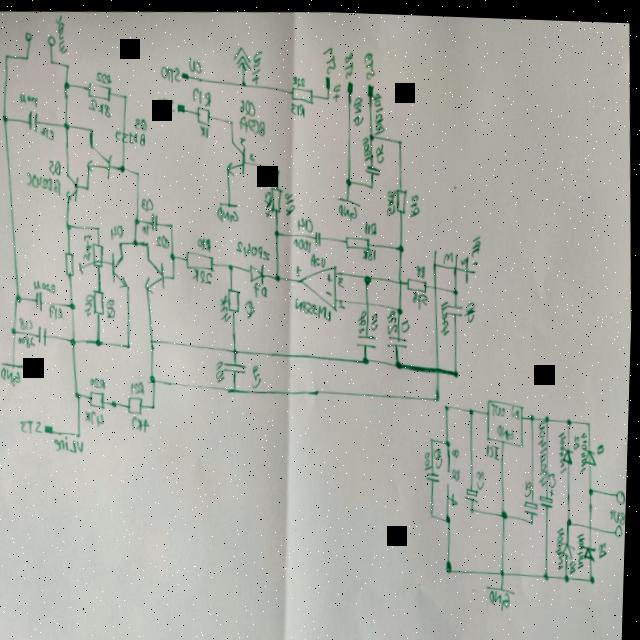capacitor: (542, 480, 559, 505), (388, 331, 411, 349), (227, 357, 251, 374), (358, 328, 380, 345), (466, 479, 483, 501), (38, 323, 52, 348), (27, 109, 41, 132), (526, 494, 542, 512), (365, 160, 383, 174), (151, 211, 162, 231), (35, 291, 45, 312), (428, 466, 442, 481), (451, 298, 465, 312), (315, 227, 324, 245)
crossover: (436, 359, 443, 372), (365, 295, 372, 303), (399, 274, 405, 282), (590, 519, 596, 525), (434, 280, 440, 286)
diode: (250, 258, 268, 283), (585, 441, 601, 462), (585, 536, 600, 558), (564, 534, 579, 555), (565, 442, 578, 460)
ground: (337, 192, 363, 206), (490, 579, 520, 591), (2, 358, 28, 370), (220, 198, 240, 207)
junction: (364, 270, 374, 283), (63, 78, 72, 89), (449, 557, 457, 569), (503, 504, 512, 514), (345, 173, 354, 183), (398, 239, 407, 249), (72, 335, 80, 345), (152, 372, 160, 382), (397, 355, 405, 365), (97, 336, 105, 346), (276, 269, 284, 279), (70, 299, 78, 309), (569, 512, 577, 522), (229, 260, 237, 270), (591, 480, 599, 490), (12, 325, 20, 335), (16, 293, 24, 303), (112, 398, 120, 408), (64, 119, 71, 130), (172, 249, 179, 259), (2, 112, 9, 122), (546, 566, 553, 576), (592, 569, 599, 579), (397, 303, 405, 311), (127, 340, 134, 349), (532, 407, 538, 417), (121, 162, 127, 172), (241, 77, 247, 87), (135, 214, 141, 224), (369, 129, 375, 139), (275, 226, 282, 234), (77, 389, 84, 397), (446, 399, 453, 407), (472, 502, 479, 510), (234, 345, 241, 353), (151, 336, 158, 344), (145, 238, 152, 246), (449, 510, 455, 519), (503, 563, 509, 572), (365, 352, 371, 360), (67, 220, 73, 228), (456, 365, 462, 373), (569, 413, 575, 421), (4, 51, 10, 59), (471, 402, 477, 410), (455, 283, 461, 291), (137, 168, 143, 176), (173, 272, 179, 280), (134, 237, 140, 245), (25, 52, 31, 60), (448, 435, 454, 443), (437, 390, 443, 398), (90, 125, 96, 133), (567, 569, 573, 577), (66, 60, 71, 69), (433, 506, 438, 515), (398, 135, 405, 141), (97, 223, 103, 230), (589, 414, 595, 421), (78, 430, 85, 436), (171, 219, 176, 227), (230, 115, 235, 123), (235, 384, 240, 392), (86, 183, 92, 189), (532, 513, 538, 519), (119, 239, 125, 245), (124, 92, 129, 98), (277, 165, 282, 171), (153, 402, 158, 408), (371, 180, 376, 186), (50, 57, 54, 63), (433, 432, 437, 438), (327, 93, 331, 99)
resistor: (79, 239, 106, 273), (85, 78, 115, 101), (186, 247, 215, 269), (395, 180, 410, 214), (291, 82, 315, 103), (345, 232, 373, 249), (89, 387, 109, 409), (94, 287, 108, 315), (197, 103, 213, 126), (272, 183, 285, 210), (229, 285, 243, 310), (128, 395, 146, 413), (409, 273, 429, 289), (66, 250, 78, 276)
source: (234, 42, 253, 71)
switch: (433, 242, 479, 280)
terminal: (618, 482, 629, 499), (46, 32, 57, 47), (367, 79, 376, 95), (25, 28, 35, 42), (617, 518, 626, 533), (177, 101, 187, 111), (181, 68, 190, 79), (347, 77, 354, 91), (47, 423, 56, 433), (326, 73, 332, 87), (449, 463, 453, 469), (449, 478, 453, 484)
text: (538, 412, 554, 486), (296, 292, 334, 320), (26, 169, 64, 195), (54, 432, 88, 457), (115, 125, 149, 149), (238, 236, 273, 258), (373, 85, 389, 133), (54, 12, 70, 54), (240, 111, 269, 133), (558, 425, 572, 469), (558, 521, 571, 568), (580, 424, 593, 470), (322, 40, 339, 73), (252, 45, 266, 85), (1, 364, 25, 387), (351, 91, 366, 127), (88, 96, 112, 118), (362, 46, 378, 79), (491, 584, 515, 606), (441, 295, 454, 332), (193, 84, 213, 106), (18, 89, 41, 108), (251, 360, 267, 387), (22, 417, 47, 434), (609, 500, 629, 521), (87, 406, 108, 426), (579, 527, 591, 562), (360, 131, 374, 161), (217, 203, 241, 220), (342, 47, 356, 76), (413, 288, 433, 308), (160, 63, 182, 81), (193, 265, 216, 282), (82, 232, 94, 264), (340, 200, 360, 219), (158, 93, 177, 113), (239, 95, 258, 115), (464, 294, 478, 320), (476, 462, 490, 488), (134, 413, 154, 431), (264, 187, 276, 216), (216, 356, 229, 382), (388, 305, 401, 331), (221, 291, 233, 319), (386, 185, 398, 213), (472, 227, 484, 254), (91, 372, 110, 389), (19, 331, 38, 348), (50, 302, 67, 320), (297, 212, 315, 229), (40, 125, 57, 143), (375, 137, 388, 160), (19, 314, 36, 331), (363, 216, 380, 233), (84, 292, 96, 316), (361, 245, 379, 261), (410, 190, 422, 214), (285, 188, 297, 212), (291, 98, 307, 116), (140, 195, 158, 211), (188, 54, 204, 72), (359, 305, 370, 331), (36, 278, 58, 291), (295, 233, 314, 248), (487, 437, 503, 454), (197, 233, 214, 249), (49, 158, 64, 176), (332, 78, 343, 102), (245, 297, 258, 317), (95, 68, 111, 84), (107, 296, 119, 317), (436, 442, 447, 464), (132, 377, 147, 393), (254, 281, 270, 296), (111, 221, 126, 237), (501, 419, 517, 434), (134, 114, 149, 130), (312, 250, 327, 265), (157, 231, 172, 246), (416, 258, 430, 274), (600, 534, 611, 554), (426, 445, 436, 467), (372, 307, 382, 328), (453, 461, 466, 477), (550, 465, 560, 484), (526, 474, 536, 493), (292, 73, 307, 85), (495, 399, 508, 412), (511, 401, 522, 416), (450, 488, 461, 503), (402, 314, 412, 330), (571, 554, 581, 569), (573, 429, 582, 445), (445, 247, 457, 259), (201, 122, 210, 137), (598, 437, 608, 449), (143, 221, 152, 233), (339, 295, 348, 307), (339, 272, 347, 284), (455, 444, 463, 456), (327, 269, 335, 281), (240, 134, 249, 144), (298, 261, 304, 276), (250, 149, 257, 160), (461, 252, 469, 260), (327, 286, 333, 294), (473, 255, 479, 262)
transistor: (87, 140, 115, 179), (145, 254, 168, 293), (112, 247, 133, 288), (227, 136, 248, 175), (64, 166, 84, 203)
